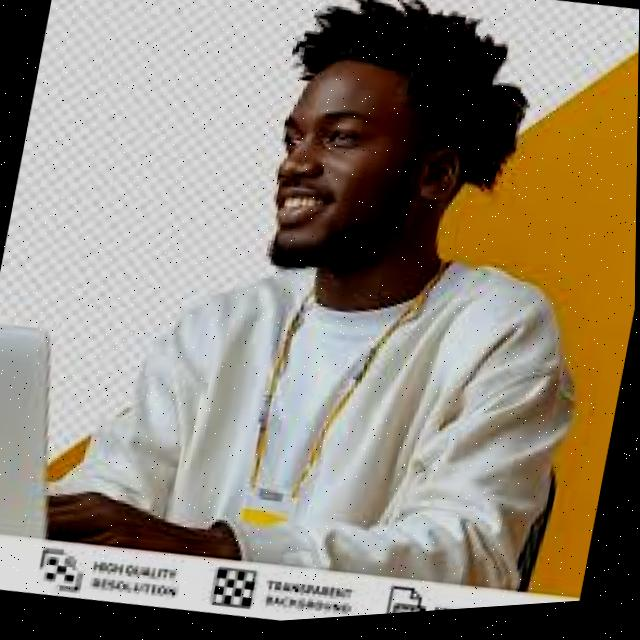id_card: (219, 283, 395, 556)
